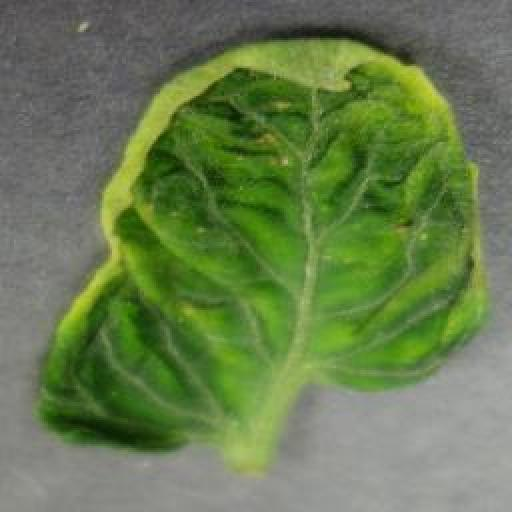Yellow Leaf Curl Virus: (33, 36, 488, 457)
